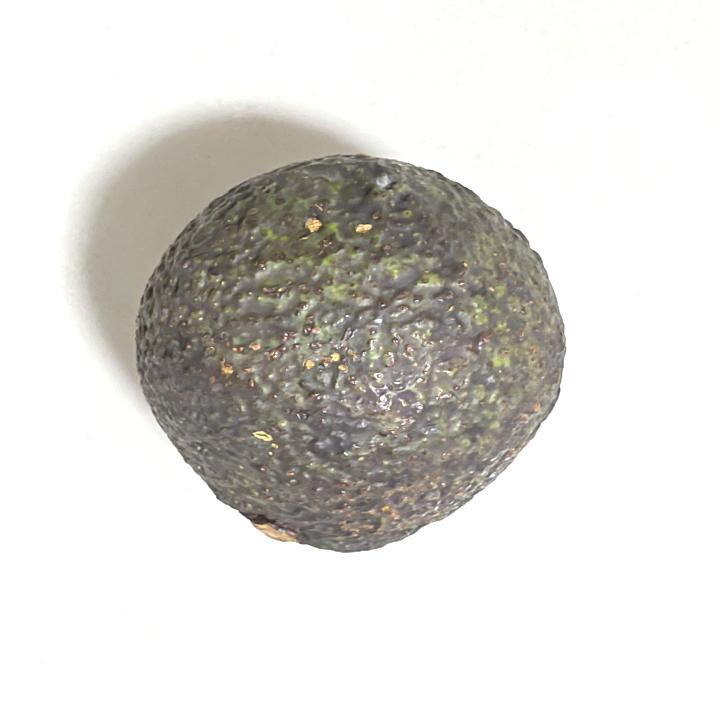Level1: (126, 146, 576, 568)
